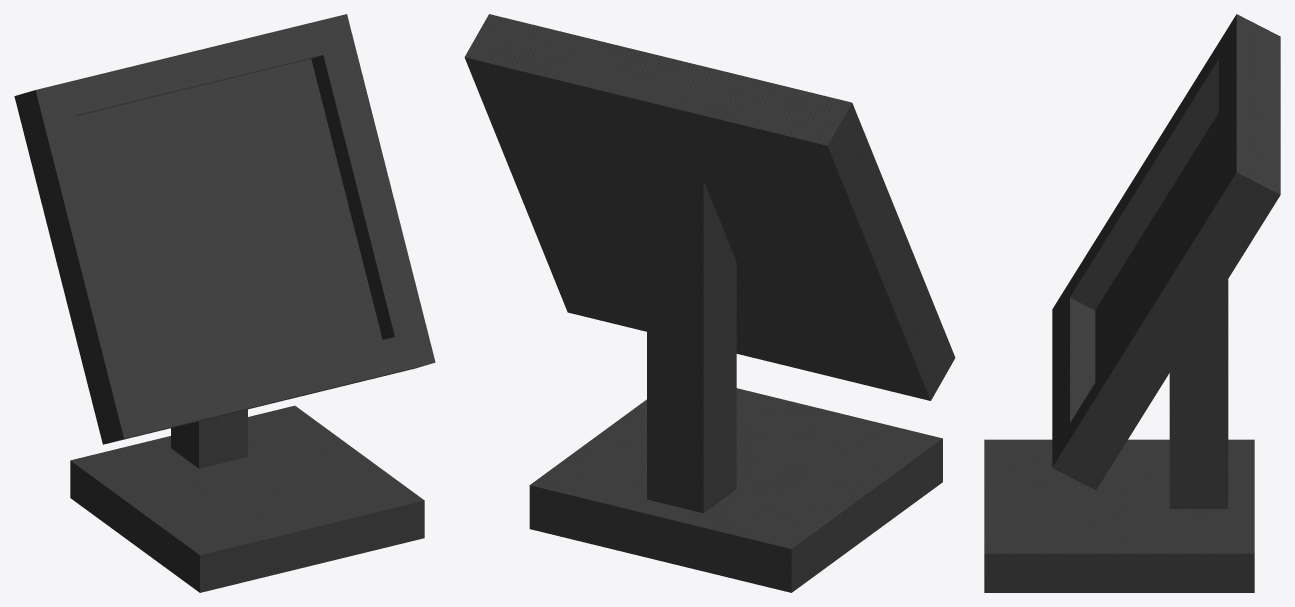
File: Monitor.fbx
3 renders of one model, left to right at view 1: azimuth 30°, elevation 25°; view 2: azimuth 150°, elevation 25°; view 3: azimuth 270°, elevation 25°, orthographic. The views are drawn at different scales.
Visible parts, largest first — view 1: pCube3, pCube1, pCube2; view 2: pCube3, pCube1, pCube2; view 3: pCube3, pCube1, pCube2.
Part boxes in pixels (x1,y1,x2,y2): pCube3: (14,14,435,444); pCube1: (70,405,424,592); pCube2: (171,409,247,468); pCube3: (464,14,955,400); pCube1: (529,388,942,592); pCube2: (647,167,736,513); pCube3: (1052,14,1280,490); pCube1: (984,439,1254,592); pCube2: (1169,279,1228,508).
Size of the model in its own units: 4.96 by 6.46 by 3.92.
